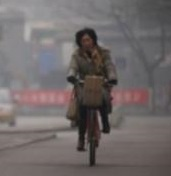person: (61, 27, 118, 169)
